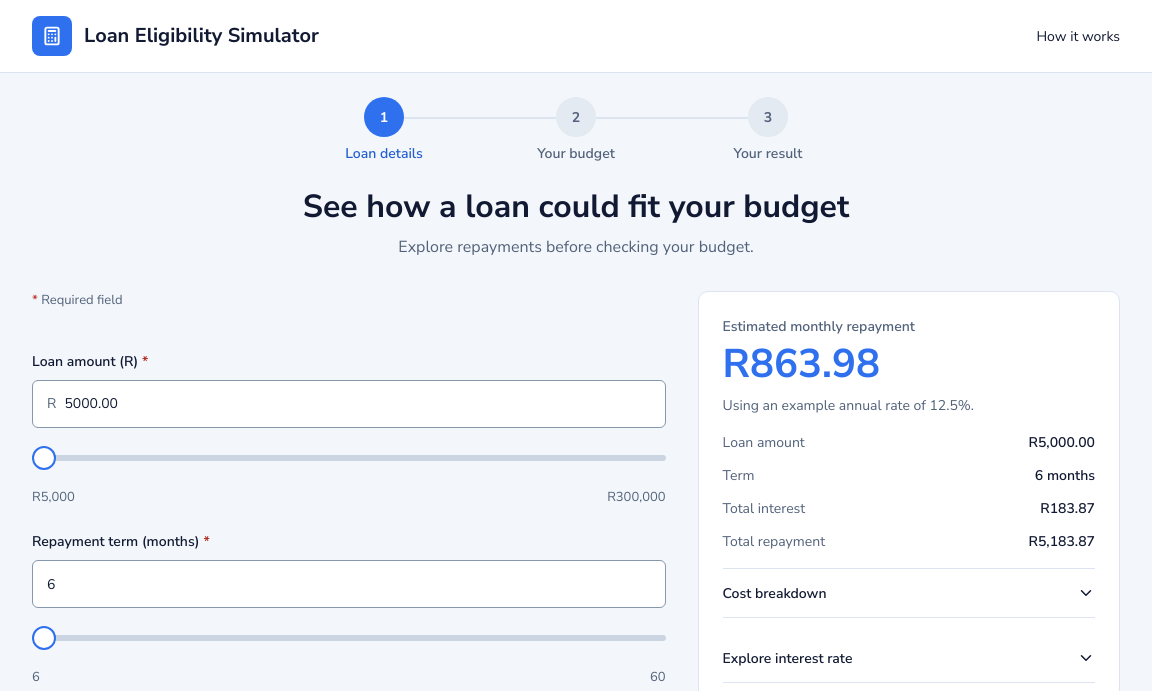
it: LoanDetailsScreen › shows a paste error when non-digit text is pasted into the amount field
Click the field labelled "Loan amount (R) *" at (358, 404), box top-left (64, 381), bottom-right (651, 427)
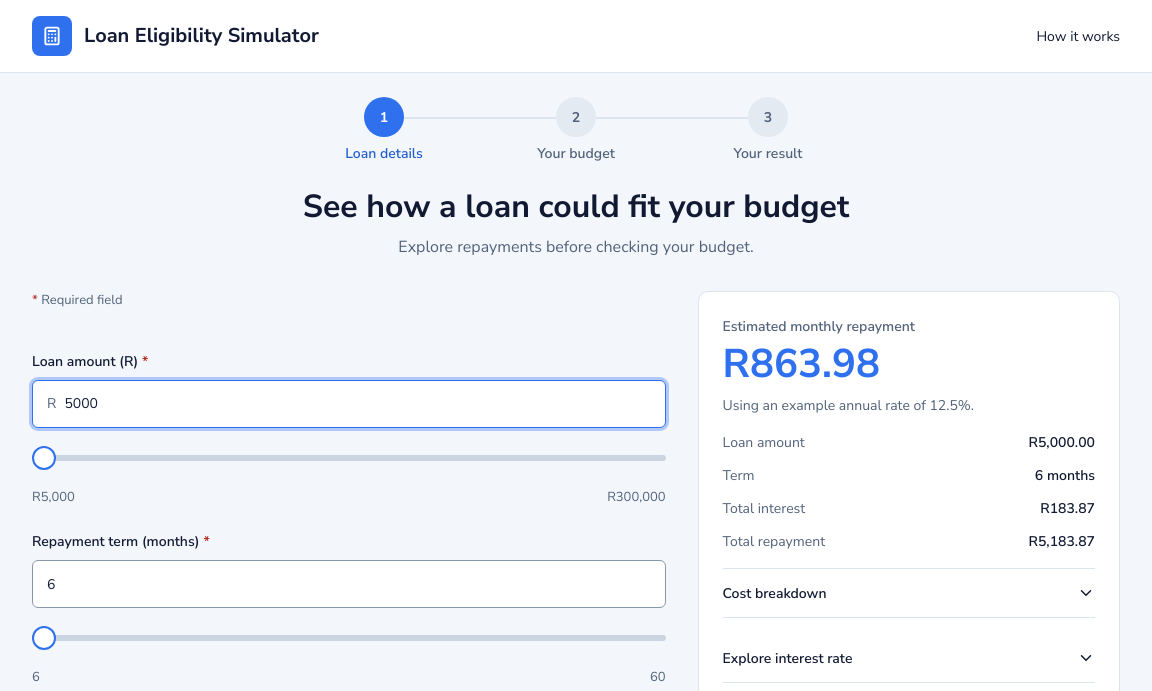
Type keys "abc"
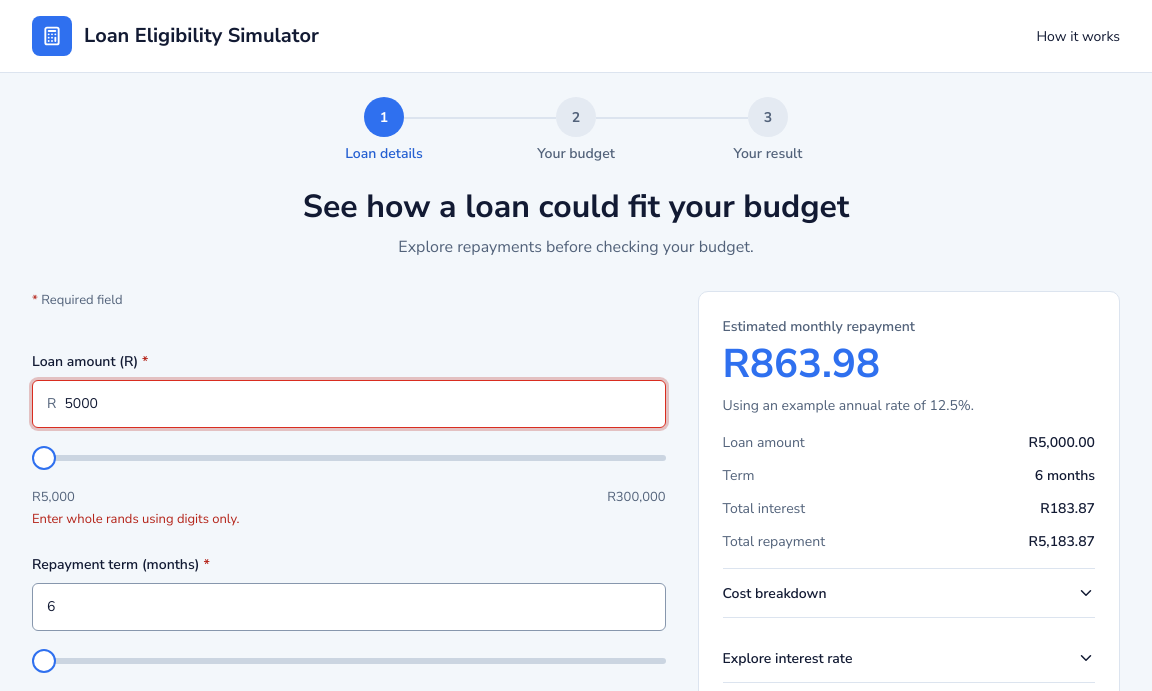
Result: the text "Enter whole rands using digits only." is shown at top-left (32, 510), bottom-right (240, 528)
